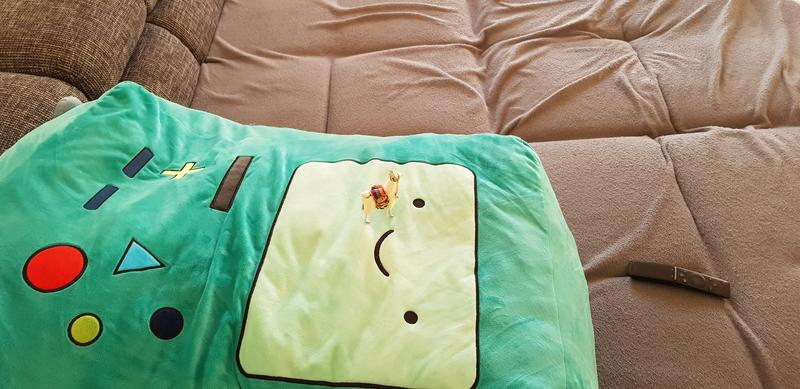Horse-Toy: (359, 170, 402, 233)
